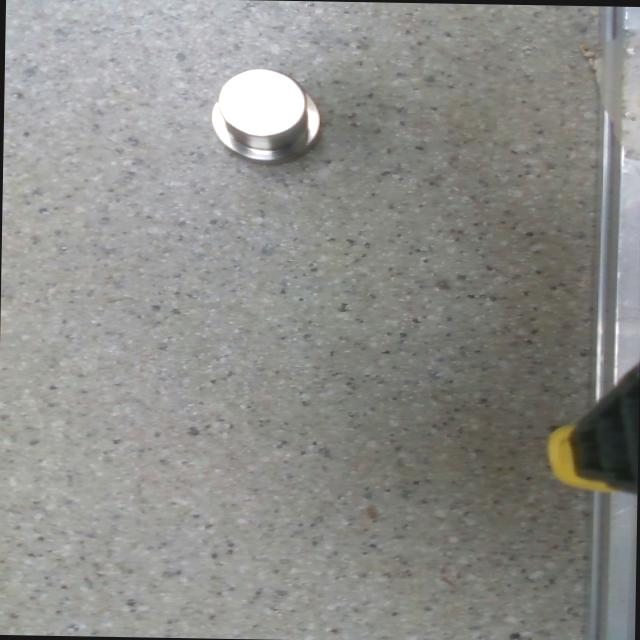sensor: (208, 66, 322, 164)
